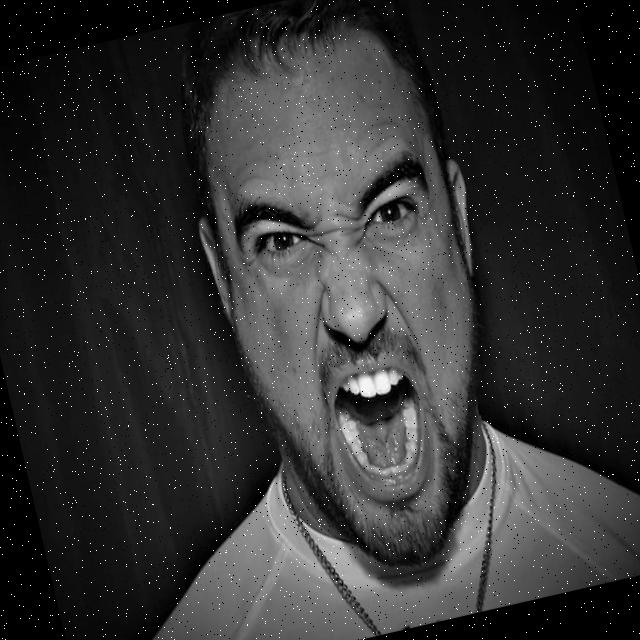Angry: (173, 20, 532, 592)
